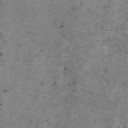oxide scale of temperature system: (40, 66, 76, 92), (0, 88, 9, 107), (58, 24, 66, 28), (104, 66, 108, 72), (0, 52, 4, 57), (122, 82, 126, 86), (123, 125, 126, 128)
